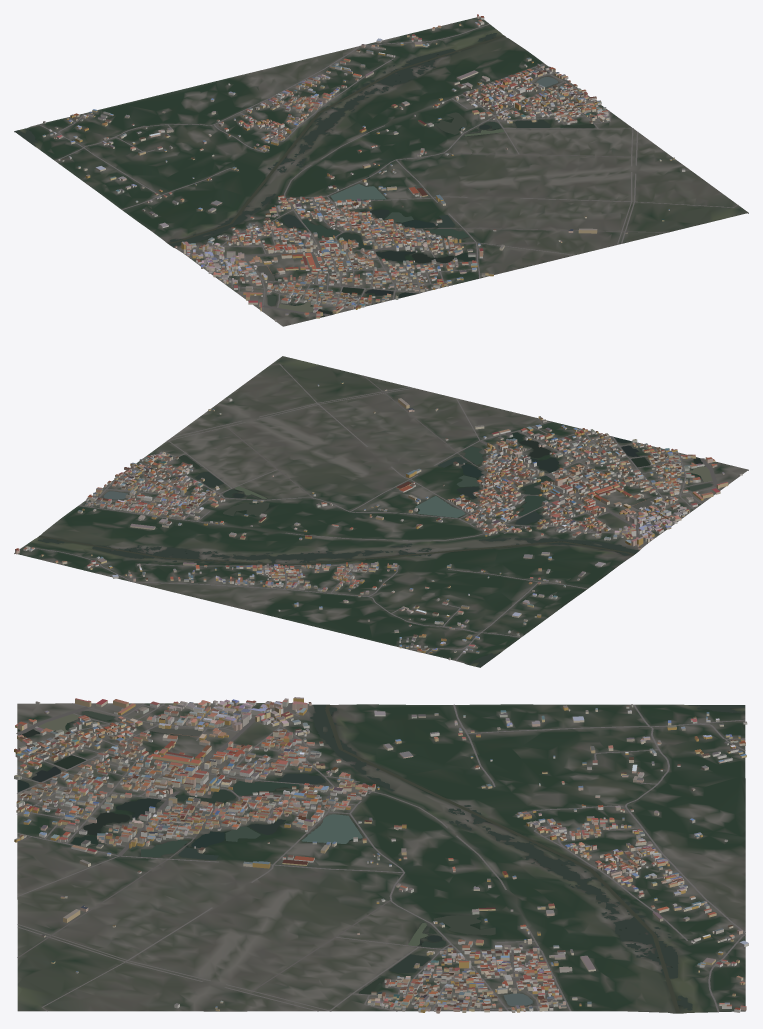
3 renders of one model, top to bottom at view 1: azimuth 30°, elevation 25°; view 2: azimuth 150°, elevation 25°; view 3: azimuth 270°, elevation 25°, orthographic. The views are drawn at different scales.
Parts seen in each view (by area): view 1: ground, buildings, water, roads; view 2: ground, buildings, water, roads; view 3: ground, buildings, water, roads.
Boxes of the visible parts, x1,y1,x2,y2 form: ground: [14, 16, 748, 326]; buildings: [42, 14, 685, 321]; water: [15, 33, 595, 316]; roads: [38, 24, 737, 315]; ground: [14, 356, 748, 667]; buildings: [15, 381, 742, 660]; water: [38, 432, 712, 667]; roads: [24, 363, 728, 660]; ground: [17, 703, 745, 1013]; buildings: [14, 697, 748, 1013]; water: [17, 704, 744, 1013]; roads: [16, 702, 745, 1011].
Size of the model in its own units: 1421 by 26.61 by 1415.
